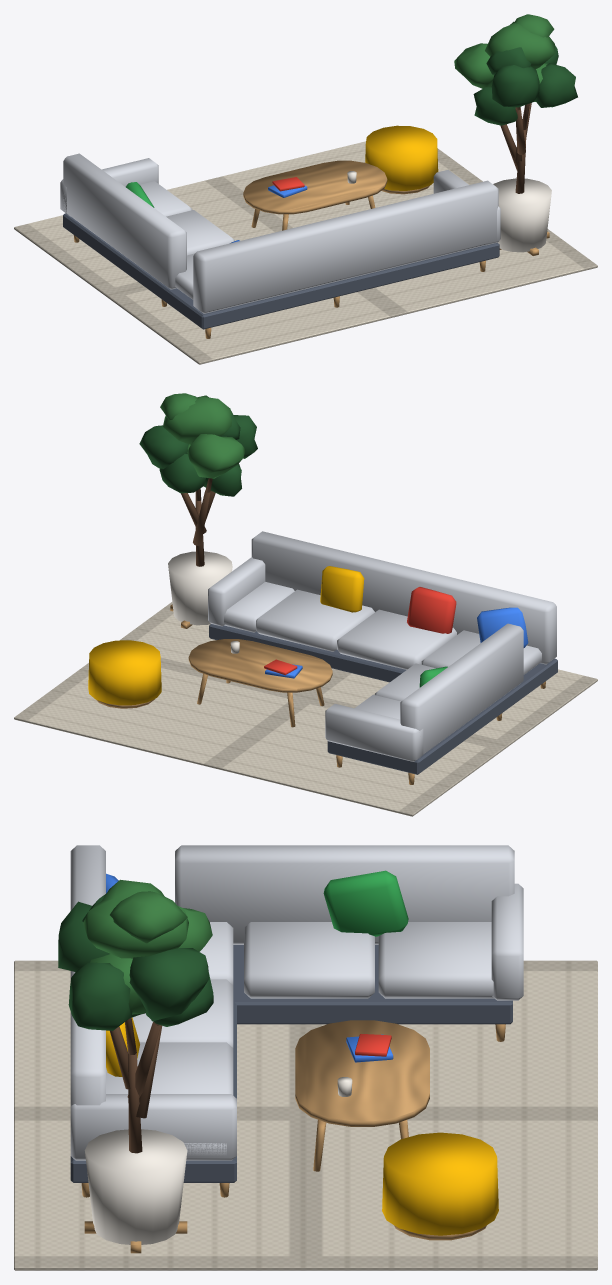
The model's file is prop_lounge_nook.glb.
3 views of the same model, one above another, from view 1: azimuth 30°, elevation 25°; view 2: azimuth 150°, elevation 25°; view 3: azimuth 270°, elevation 25° (orthographic). The views are drawn at different scales.
Visible parts, largest first — view 1: Lounge_SofaUpholstery, Lounge_WovenRug, Lounge_SofaBase, Lounge_WarmOak, Lounge_FicusLeafDeep, Lounge_GoogleYellow, Lounge_FicusLeafSun, Lounge_CeramicPot, Lounge_FicusWood; view 2: Lounge_SofaUpholstery, Lounge_WovenRug, Lounge_SofaBase, Lounge_GoogleYellow, Lounge_WarmOak, Lounge_FicusLeafSun, Lounge_FicusLeafDeep, Lounge_CeramicPot, Lounge_GoogleRed, Lounge_GoogleBlue, Lounge_FicusWood; view 3: Lounge_WovenRug, Lounge_SofaUpholstery, Lounge_WarmOak, Lounge_GoogleYellow, Lounge_FicusLeafDeep, Lounge_CeramicPot, Lounge_SofaBase, Lounge_FicusLeafSun, Lounge_GoogleGreen, Lounge_FicusWood, Lounge_GoogleRed, Lounge_GoogleBlue.
Boxes of the visible parts, x1,y1,x2,y2 form: Lounge_SofaUpholstery: (60,153,500,313); Lounge_WovenRug: (14,141,597,364); Lounge_SofaBase: (63,213,499,329); Lounge_WarmOak: (73,160,549,338); Lounge_FicusLeafDeep: (473,45,577,125); Lounge_GoogleYellow: (365,125,438,190); Lounge_FicusLeafSun: (454,14,555,101); Lounge_CeramicPot: (347,171,551,252); Lounge_FicusWood: (500,103,531,193); Lounge_SofaUpholstery: (208,531,556,761); Lounge_WovenRug: (14,602,597,816); Lounge_SofaBase: (209,624,557,774); Lounge_GoogleYellow: (88,566,364,705); Lounge_WarmOak: (96,604,545,784); Lounge_FicusLeafSun: (160,393,245,478); Lounge_FicusLeafDeep: (139,411,257,496); Lounge_CeramicPot: (168,551,239,653); Lounge_GoogleRed: (264,587,456,675); Lounge_GoogleBlue: (265,607,528,678); Lounge_FicusWood: (181,478,215,566); Lounge_WovenRug: (14,960,597,1270); Lounge_SofaUpholstery: (70,845,523,1160); Lounge_WarmOak: (81,1020,505,1253); Lounge_GoogleYellow: (106,1017,498,1235); Lounge_FicusLeafDeep: (58,893,213,1030); Lounge_CeramicPot: (84,1077,352,1244); Lounge_SofaBase: (70,945,512,1182); Lounge_FicusLeafSun: (83,879,212,1014); Lounge_GoogleGreen: (323,870,408,936); Lounge_FicusWood: (110,1017,162,1153); Lounge_GoogleRed: (355,1034,391,1056); Lounge_GoogleBlue: (106,873,393,1062).
Bounding box in the file's own units: 4.17 × 2.21 × 3.3.
Materials: 12 (2 with a texture image).
